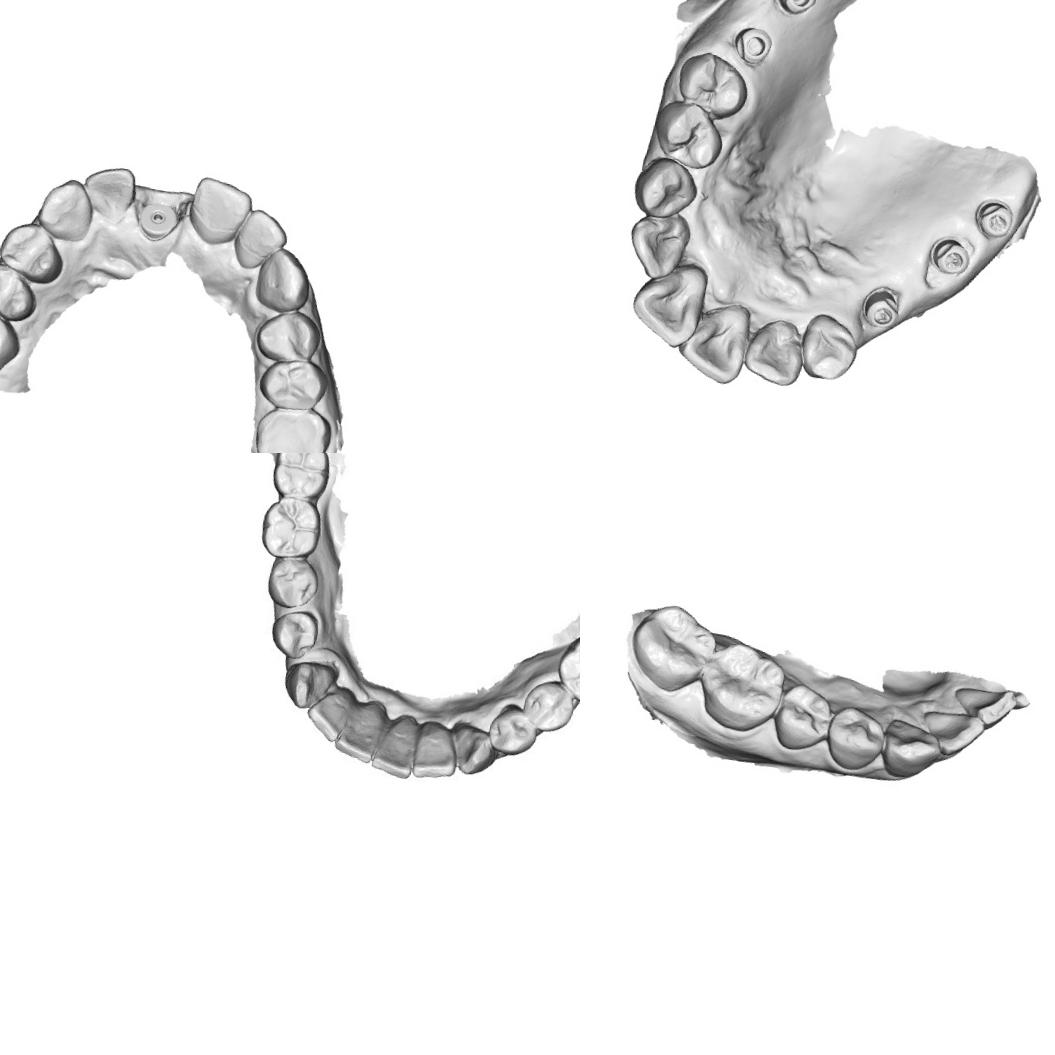canine: (628, 151, 702, 226), (794, 308, 862, 384), (250, 242, 317, 318), (878, 714, 941, 782), (33, 171, 95, 240), (444, 719, 503, 780), (279, 656, 337, 713)
implant: (970, 194, 1018, 242), (927, 232, 975, 280), (134, 198, 181, 245), (858, 285, 905, 332), (732, 21, 777, 69), (769, 0, 820, 19)
incisor: (669, 303, 754, 388), (623, 265, 706, 351), (182, 173, 256, 251), (737, 320, 808, 390), (228, 204, 292, 276), (622, 210, 686, 280), (76, 160, 140, 225), (946, 679, 1020, 732), (331, 697, 387, 765), (918, 703, 984, 759), (369, 711, 421, 781), (410, 718, 462, 784), (301, 683, 355, 745)
molar: (622, 598, 723, 699), (694, 636, 792, 738), (255, 492, 325, 563), (248, 398, 335, 453), (267, 453, 334, 503), (0, 294, 28, 389), (551, 625, 580, 708)
premolar: (646, 95, 729, 174), (672, 46, 754, 122), (818, 700, 892, 774), (0, 216, 69, 287), (250, 303, 325, 368), (254, 352, 330, 415), (768, 680, 832, 752), (518, 674, 580, 736), (262, 554, 322, 612), (484, 699, 542, 759), (267, 606, 321, 662), (0, 258, 42, 324)
